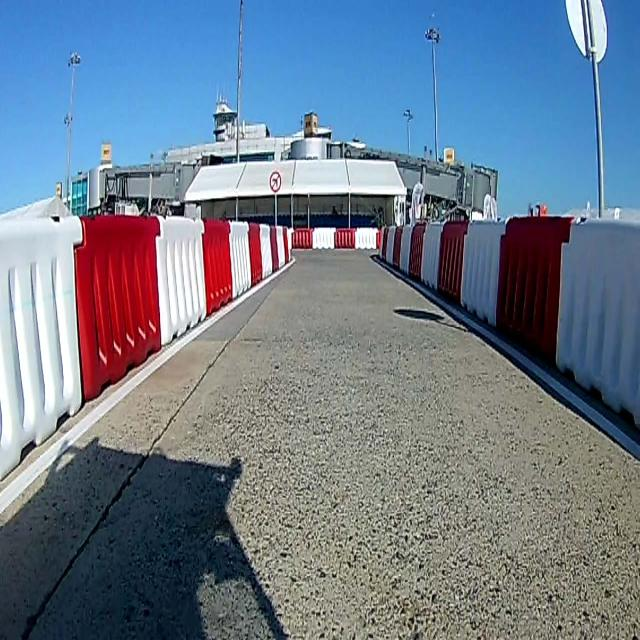soladonulmez: (269, 168, 283, 196)
